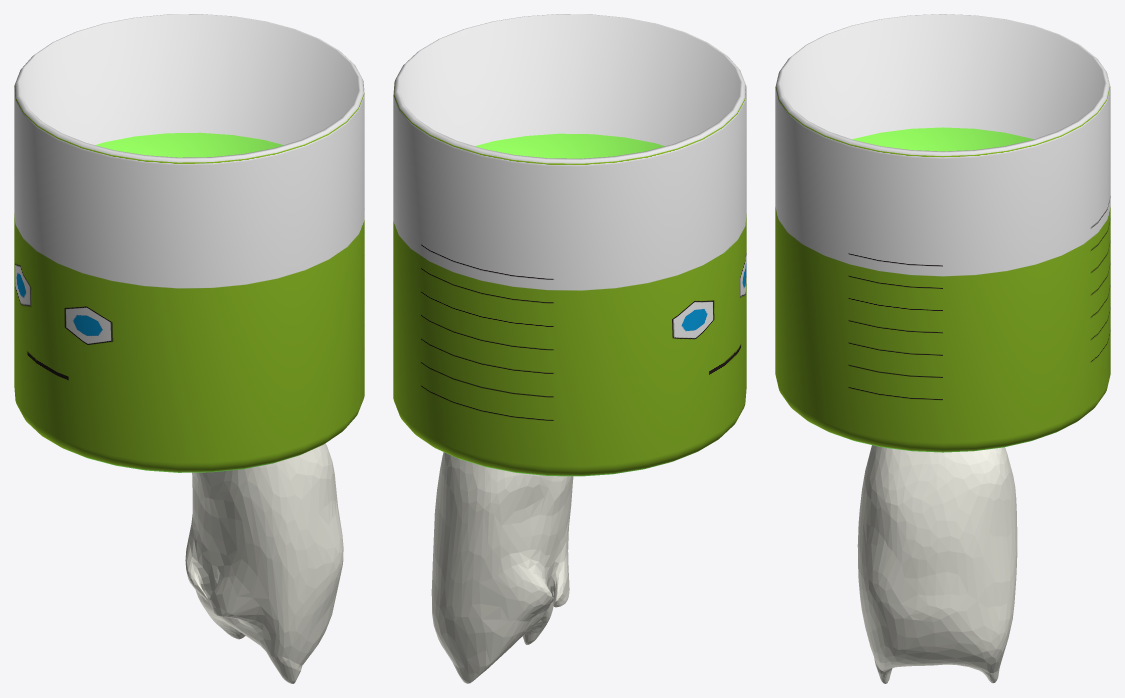
Rendered from furascoyamabuki.glb.
3 renders of one model, left to right at view 1: azimuth 30°, elevation 25°; view 2: azimuth 150°, elevation 25°; view 3: azimuth 270°, elevation 25°, orthographic. The views are drawn at different scales.
Visible parts, largest first — view 1: 円柱.013, 球.002; view 2: 円柱.013, 球.002; view 3: 円柱.013, 球.002.
Boxes of the visible parts, box(x1,y1,x2,y2) form: 円柱.013: box(14, 14, 364, 472); 球.002: box(185, 443, 343, 683); 円柱.013: box(393, 14, 746, 476); 球.002: box(431, 452, 573, 683); 円柱.013: box(775, 14, 1110, 452); 球.002: box(857, 445, 1017, 683).
Bounding box in the file's own units: 1.8 × 3.36 × 1.8.
4 materials, 1 textured.
